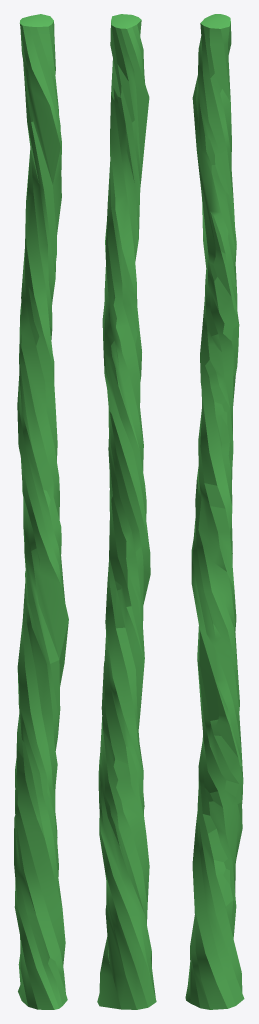
File: jungle_tree_tall_A_twist.fbx
3 renders of one model, left to right at view 1: azimuth 90°, elevation 25°; view 2: azimuth 150°, elevation 25°; view 3: azimuth 330°, elevation 25°, orthographic.
Visible parts, largest first — view 1: jungle_tree_tall_A_twist; view 2: jungle_tree_tall_A_twist; view 3: jungle_tree_tall_A_twist.
Part boxes in pixels (x1,y1,x2,y2): jungle_tree_tall_A_twist: [14, 14, 68, 1009]; jungle_tree_tall_A_twist: [97, 14, 156, 1009]; jungle_tree_tall_A_twist: [185, 14, 244, 1009].
Bounding box in the file's own units: 82.62 × 1643 × 83.54.
